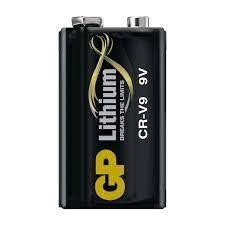9V Battery: (58, 16, 167, 210)
